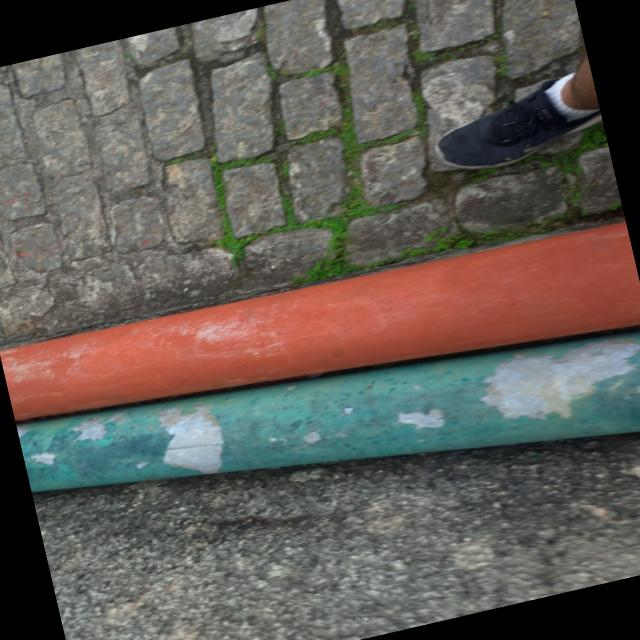gas: (0, 222, 640, 416), (17, 334, 640, 496)
